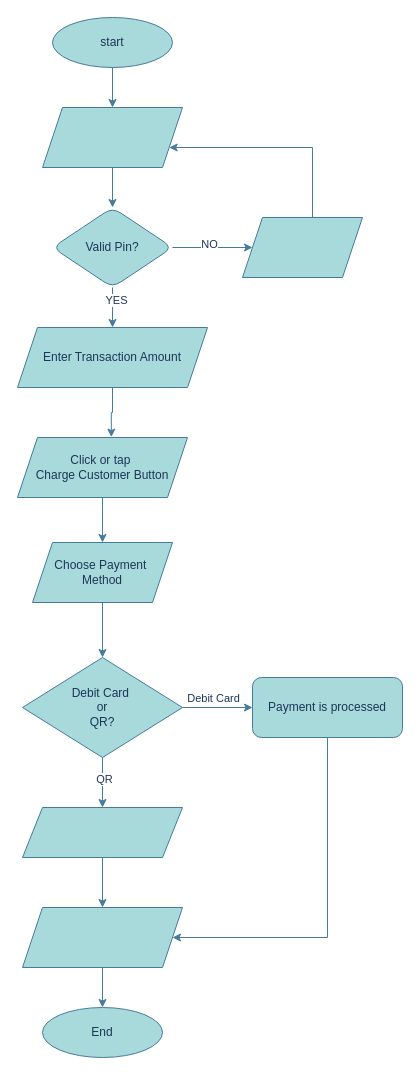
Image size: 420x1075. Some labels were removed from this diagram. The shapes that lost their labels are listed below. From the top down, each one's centre as x and y in pixels, then its label:
the point at 112,137: Enter Pin to Login
the point at 302,247: Error Message
the point at 102,832: Confirm Scan Complete
the point at 102,937: View Transaction
